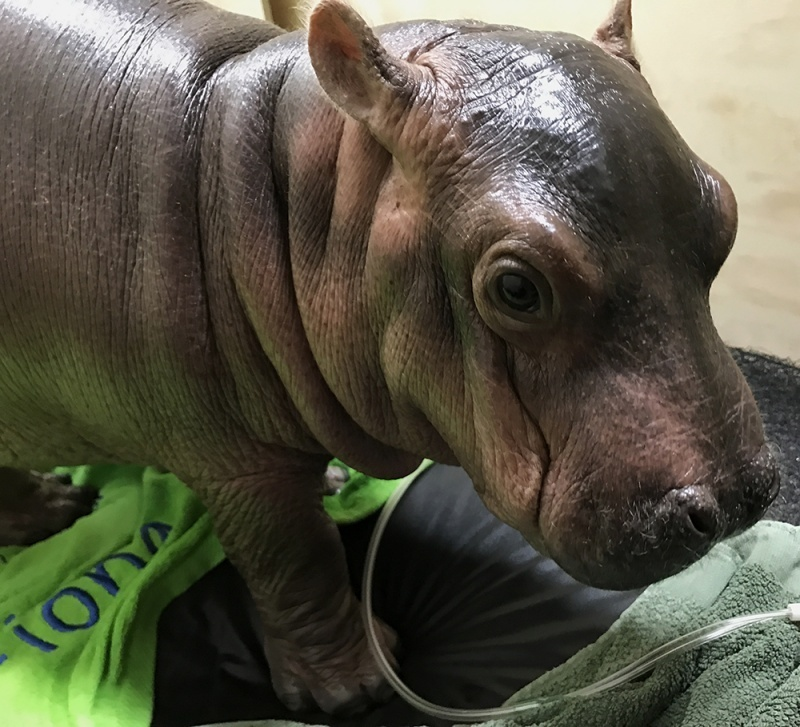hipopotamo: (8, 0, 787, 709)
